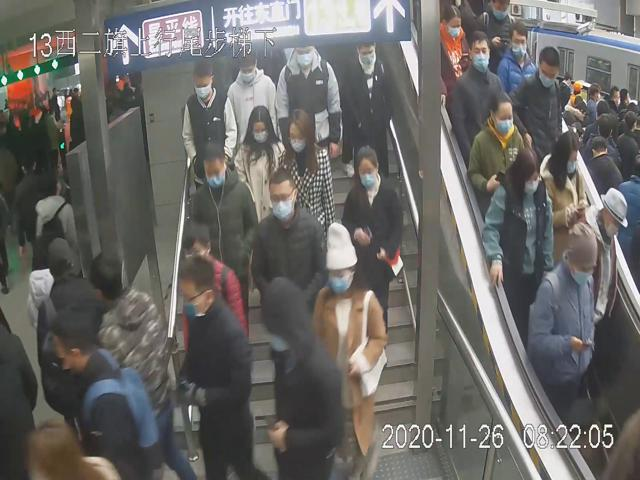person: (178, 255, 259, 480), (315, 223, 386, 476), (479, 145, 555, 339), (525, 220, 598, 407), (190, 137, 256, 323), (343, 145, 403, 342), (256, 170, 324, 325), (179, 222, 248, 369), (274, 42, 343, 165), (342, 40, 394, 183), (465, 88, 530, 202), (277, 107, 332, 233), (450, 28, 505, 153), (179, 55, 236, 171), (231, 105, 285, 222), (225, 48, 277, 149)
